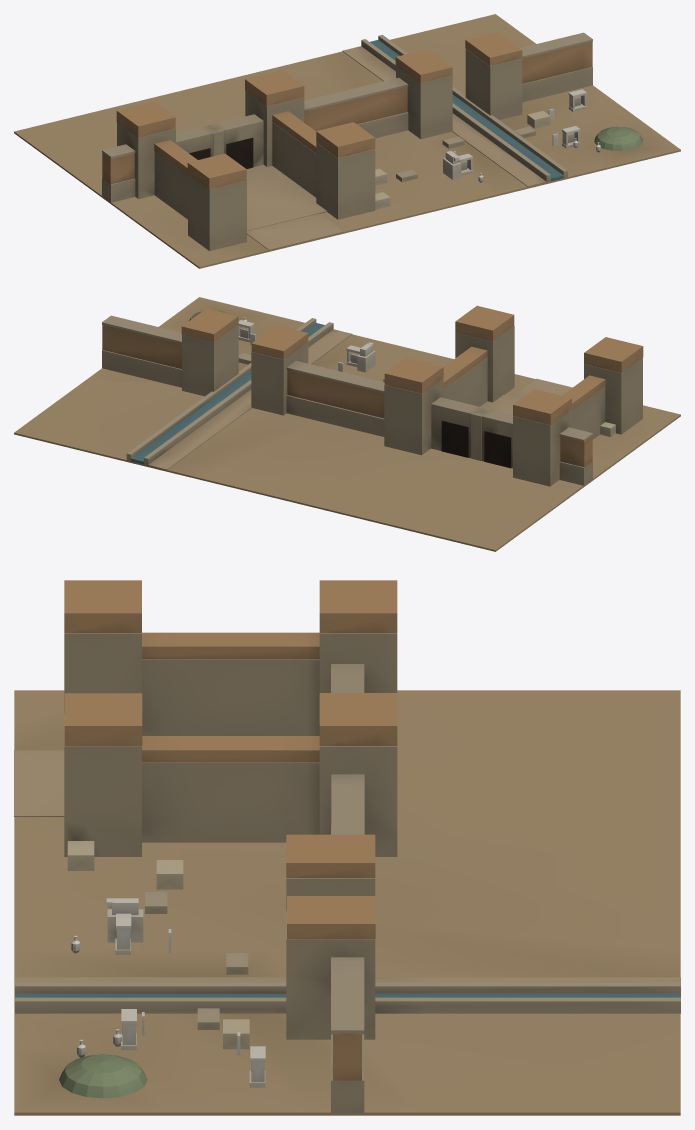
File: dipylon-430.glb
3 renders of one model, top to bottom at view 1: azimuth 30°, elevation 25°; view 2: azimuth 150°, elevation 25°; view 3: azimuth 270°, elevation 25°, orthographic. The views are drawn at different scales.
Parts seen in each view (by area): view 1: p1_walls, p0_ground, p2_graves, p3_refugees; view 2: p1_walls, p0_ground, p2_graves; view 3: p0_ground, p1_walls, p2_graves, p3_refugees.
Boxes of the visible parts, x1,y1,x2,y2 form: p1_walls: (102, 32, 592, 250); p0_ground: (14, 14, 680, 268); p2_graves: (396, 89, 643, 182); p3_refugees: (375, 111, 550, 209); p1_walls: (102, 305, 643, 486); p0_ground: (14, 297, 680, 551); p2_graves: (189, 310, 384, 382); p0_ground: (14, 690, 680, 1115); p1_walls: (15, 580, 680, 1112); p2_graves: (59, 892, 265, 1098); p3_refugees: (67, 841, 249, 1049).
Bounding box in the file's own units: 90.07 × 13.3 × 60.07.
